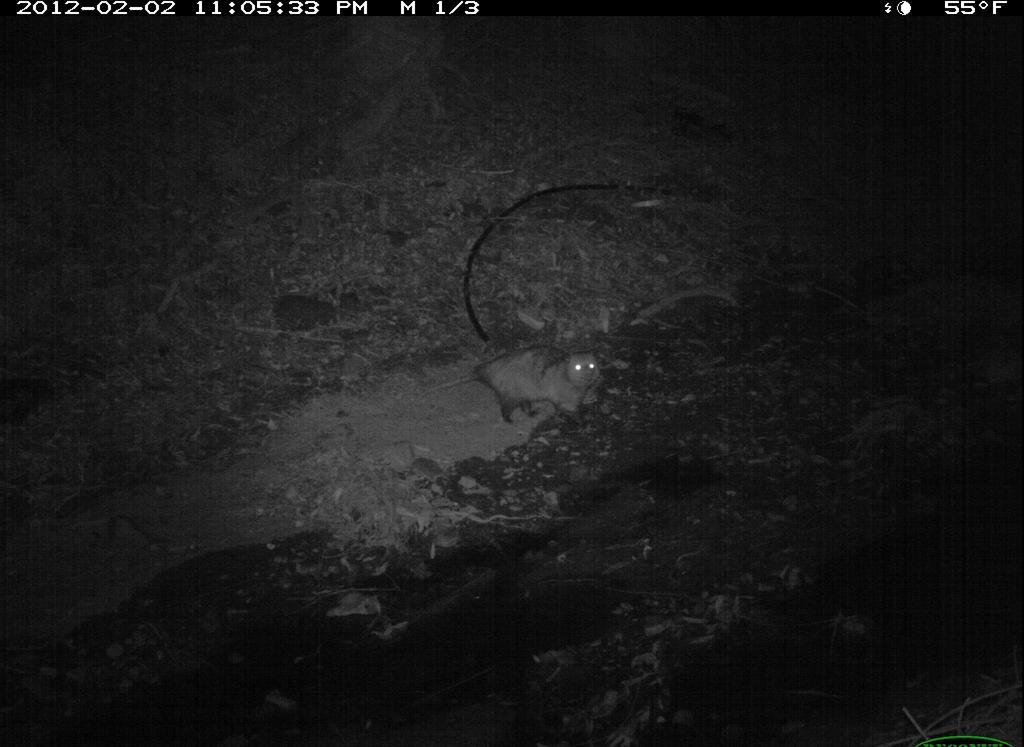opossum: (459, 324, 621, 437)
